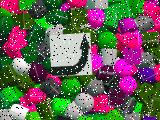Left: (49, 33, 92, 76)
